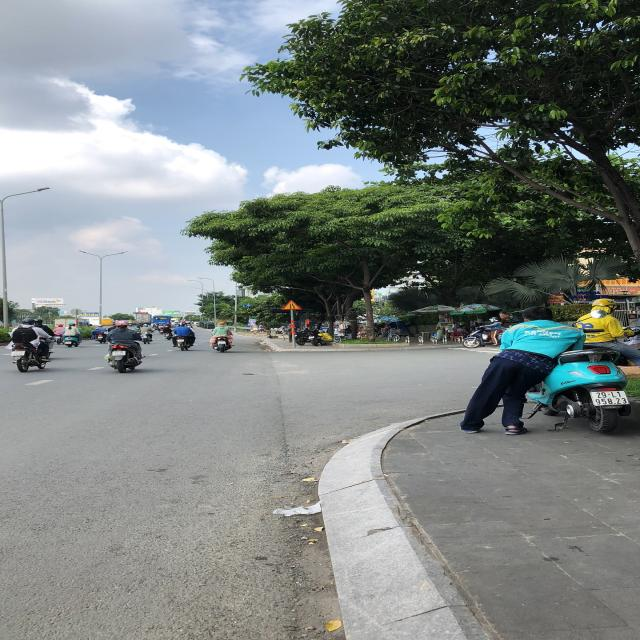Bien bao duong bi thu hep: (281, 299, 304, 311)
